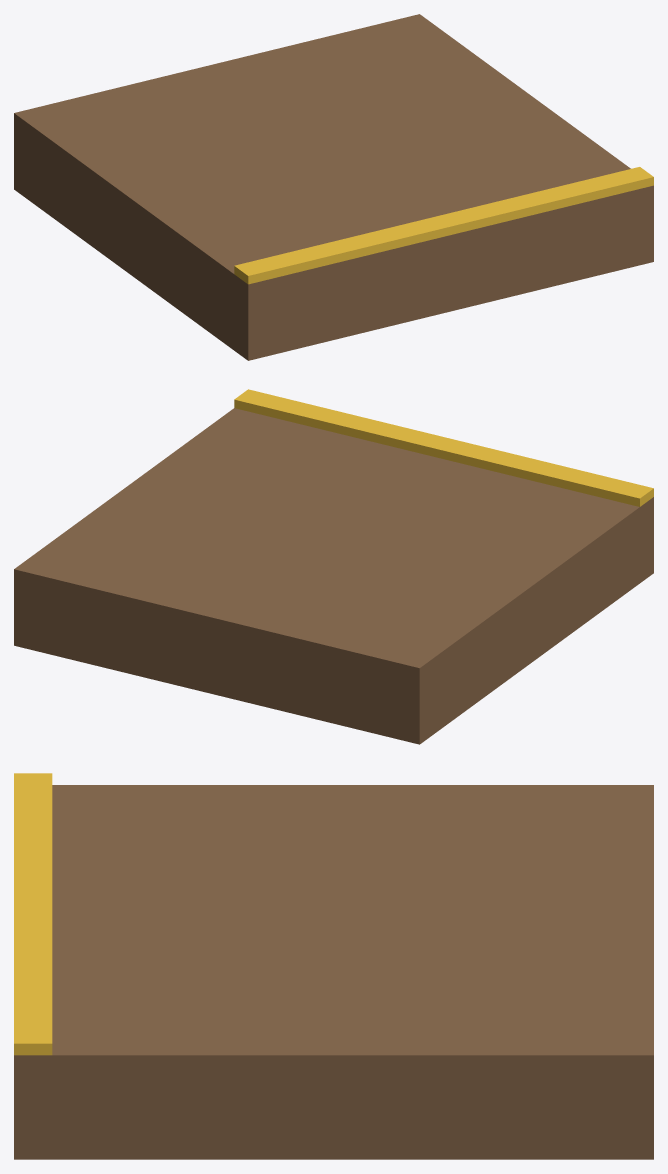
The model's file is tribune_step.glb.
3 renders of one model, top to bottom at view 1: azimuth 30°, elevation 25°; view 2: azimuth 150°, elevation 25°; view 3: azimuth 270°, elevation 25°, orthographic. The views are drawn at different scales.
Visible parts, largest first — view 1: tribune_step_mesh; view 2: tribune_step_mesh; view 3: tribune_step_mesh.
Boxes of the visible parts, x1,y1,x2,y2 form: tribune_step_mesh: [14, 14, 653, 360]; tribune_step_mesh: [14, 389, 653, 744]; tribune_step_mesh: [14, 773, 653, 1159].
Size of the model in its own units: 1 by 0.2 by 1.
